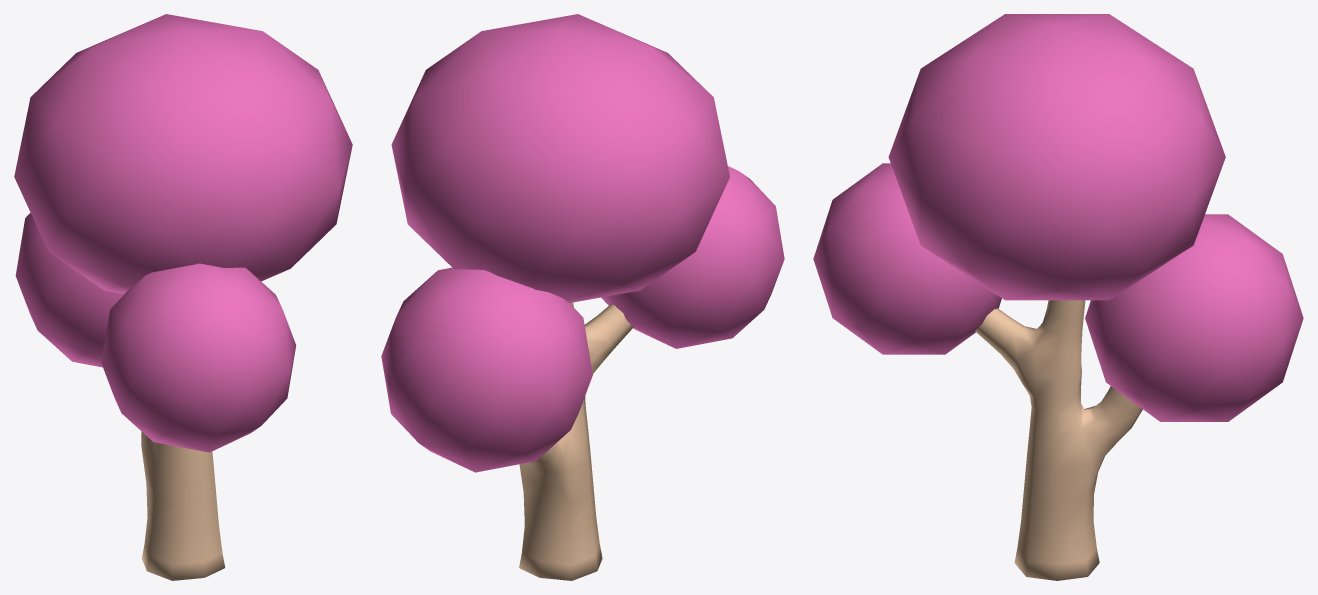
Rendered from O_Tree.fbx.
3 renders of one model, left to right at view 1: azimuth 30°, elevation 25°; view 2: azimuth 150°, elevation 25°; view 3: azimuth 270°, elevation 25°, orthographic.
Parts seen in each view (by area): view 1: Tree; view 2: Tree; view 3: Tree.
Part boxes in pixels (x1=…): Tree: x1=14, y1=14, x2=352, y2=580; Tree: x1=381, y1=14, x2=784, y2=580; Tree: x1=813, y1=14, x2=1303, y2=580.
Size of the model in its own units: 444 by 789 by 650.
